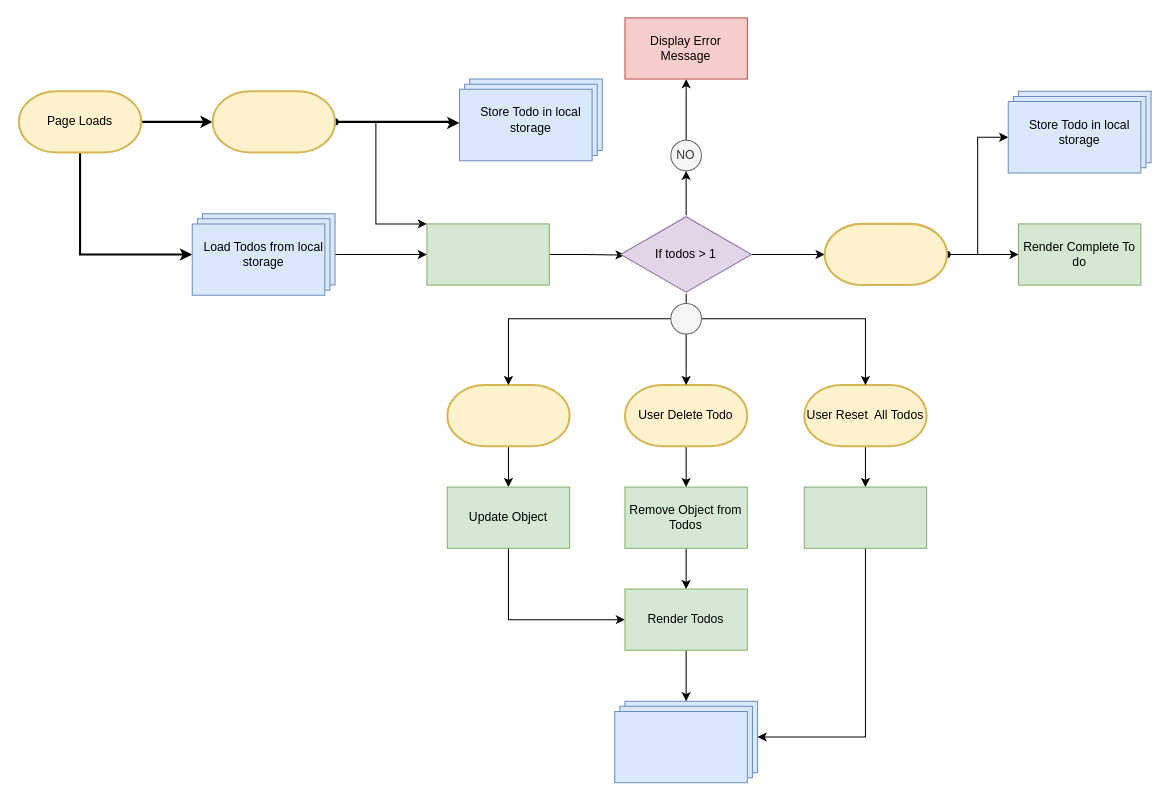
This 1169x801 diagram has some shape labels left out. The shapes that lost their labels are listed below. From the top down, each one's centre as x and y in pixels, then its label:
At (x=273, y=121): "User submit new Todo".
At (x=487, y=254): "Render All Todos".
At (x=885, y=254): "User Mark Complete".
At (x=685, y=318): "YES".
At (x=508, y=415): "User Edit Todo".
At (x=865, y=517): "Remove all Objects from Todos".
At (x=686, y=741): "Update Todos local storage".
